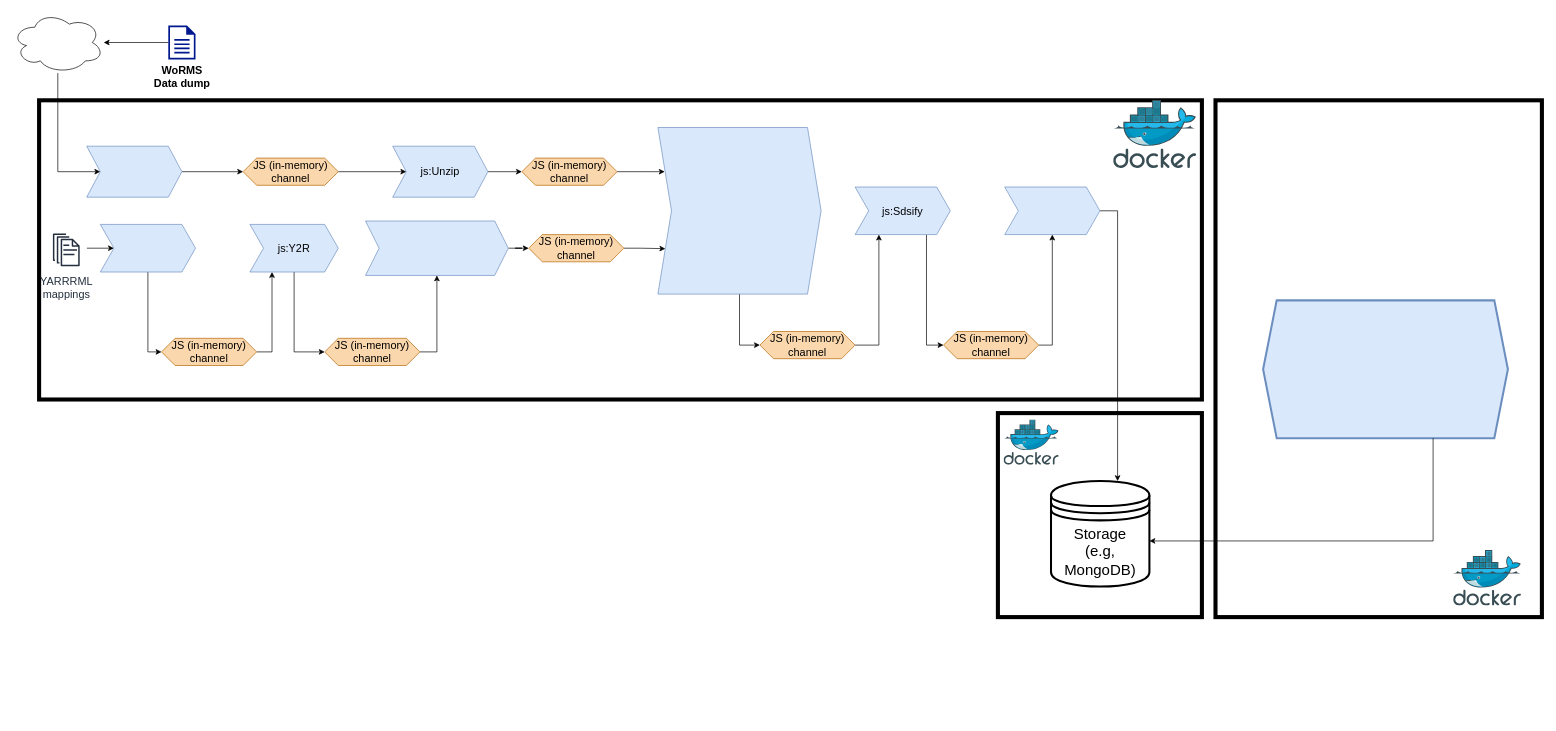
This 1556x731 diagram has some shape labels left out. Here are the shapes that lost their labels. From the top down, the box of each, then its label:
(11, 11, 104, 73): Web
(86, 146, 182, 197): js:HttpFetch
(657, 127, 821, 294): js:RMLMapperReader
(1004, 186, 1100, 235): js:Ingest
(100, 224, 196, 272): js:GlobRead
(365, 220, 508, 275): js:IncRMLTransformer
(1262, 299, 1509, 439): LDES Server
